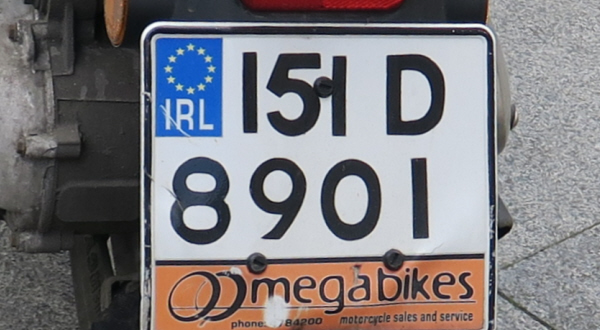license_plate: (142, 23, 493, 330)
